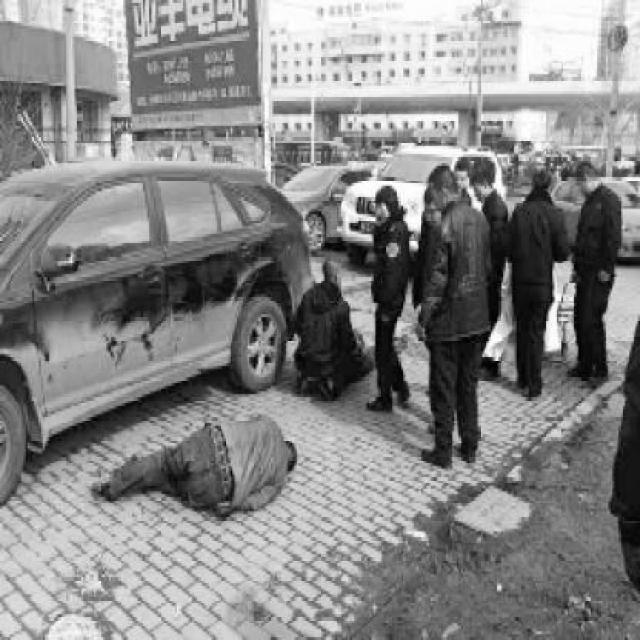fall: (79, 397, 307, 520)
